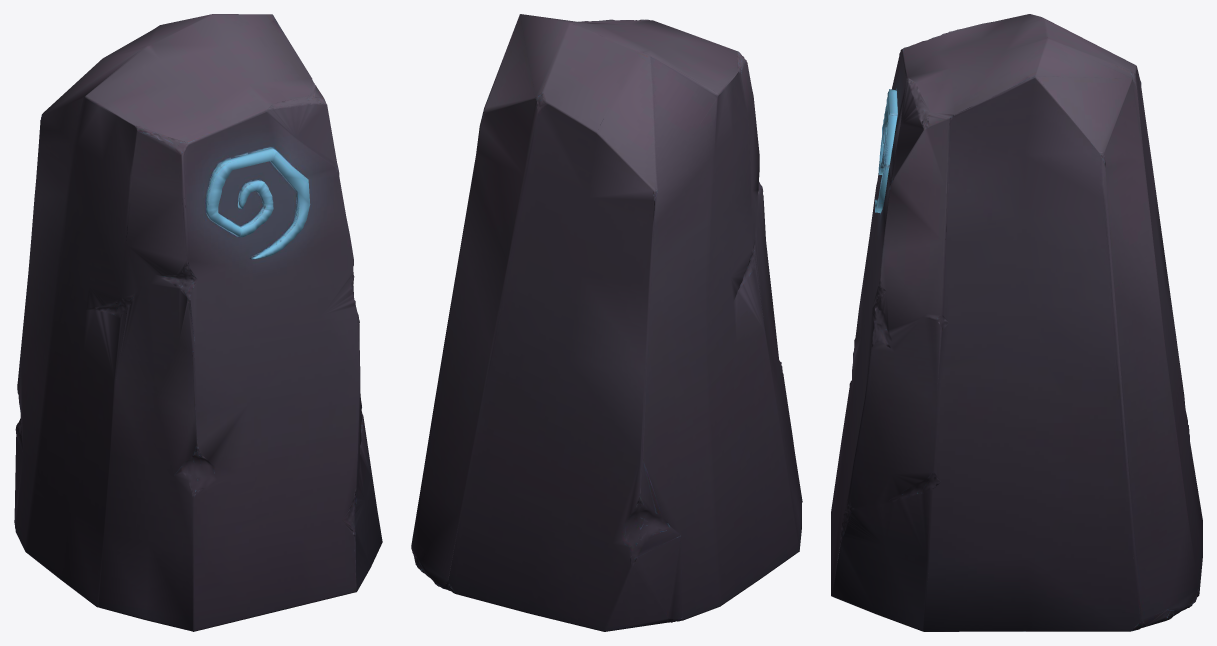
The model's file is selected.fbx.
3 renders of one model, left to right at view 1: azimuth 30°, elevation 25°; view 2: azimuth 150°, elevation 25°; view 3: azimuth 270°, elevation 25°, orthographic. The views are drawn at different scales.
Visible parts, largest first — view 1: tripo_node_2a227c82-cb2e-4282-a55b-1bf812bd0a79; view 2: tripo_node_2a227c82-cb2e-4282-a55b-1bf812bd0a79; view 3: tripo_node_2a227c82-cb2e-4282-a55b-1bf812bd0a79.
Boxes of the visible parts, x1,y1,x2,y2 form: tripo_node_2a227c82-cb2e-4282-a55b-1bf812bd0a79: [14, 14, 382, 631]; tripo_node_2a227c82-cb2e-4282-a55b-1bf812bd0a79: [411, 14, 802, 631]; tripo_node_2a227c82-cb2e-4282-a55b-1bf812bd0a79: [831, 14, 1202, 631].
Bounding box in the file's own units: 0.5723 × 0.998 × 0.627.
Materials: 1 (1 with a texture image).
